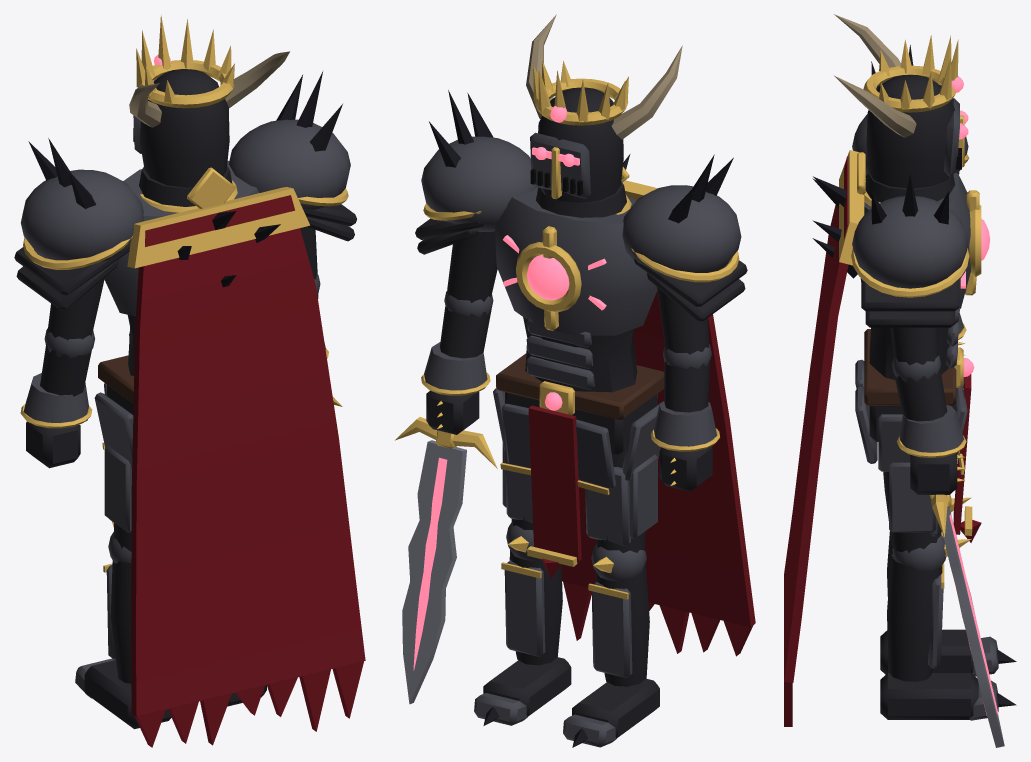
The model's file is HollowKing.fbx.
The picture shows the model from 3 angles, left to right: view 1: azimuth 30°, elevation 25°; view 2: azimuth 150°, elevation 25°; view 3: azimuth 270°, elevation 25°; orthographic projection. The views are drawn at different scales.
Visible parts, largest first — view 1: HollowKing_Cape, HollowKing_UpperArmL, HollowKing_Head, HollowKing_UpperArmR, HollowKing_LowerArmL, HollowKing_LowerLegL, HollowKing_Torso, HollowKing_Hips, HollowKing_UpperLegL; view 2: HollowKing_Torso, HollowKing_Cape, HollowKing_Hips, HollowKing_UpperArmL, HollowKing_UpperArmR, HollowKing_Head, HollowKing_LowerLegL, HollowKing_LowerLegR, HollowKing_Sword, HollowKing_LowerArmL, HollowKing_LowerArmR, HollowKing_UpperLegL (+4 smaller); view 3: HollowKing_UpperArmR, HollowKing_Head, HollowKing_LowerLegR, HollowKing_Cape, HollowKing_LowerArmR, HollowKing_Hips, HollowKing_Torso, HollowKing_UpperLegR, HollowKing_Sword, HollowKing_LowerLegL, HollowKing_UpperArmL, HollowKing_Sword_Glow_Crimson.
Boxes of the visible parts, <box> form: HollowKing_Cape: <box>127,167,365,747</box>; HollowKing_UpperArmL: <box>14,138,143,340</box>; HollowKing_Head: <box>129,15,289,187</box>; HollowKing_UpperArmR: <box>229,71,356,279</box>; HollowKing_LowerArmL: <box>20,328,94,468</box>; HollowKing_LowerLegL: <box>75,521,171,729</box>; HollowKing_Torso: <box>104,161,280,375</box>; HollowKing_Hips: <box>94,355,134,469</box>; HollowKing_UpperLegL: <box>104,445,131,551</box>; HollowKing_Torso: <box>494,154,657,392</box>; HollowKing_Cape: <box>561,167,755,656</box>; HollowKing_Hips: <box>493,353,664,579</box>; HollowKing_UpperArmL: <box>622,154,747,354</box>; HollowKing_UpperArmR: <box>415,90,537,302</box>; HollowKing_Head: <box>526,14,682,202</box>; HollowKing_LowerLegL: <box>563,544,659,747</box>; HollowKing_LowerLegR: <box>474,522,571,725</box>; HollowKing_Sword: <box>395,417,497,704</box>; HollowKing_LowerArmL: <box>650,344,719,491</box>; HollowKing_LowerArmR: <box>421,290,493,434</box>; HollowKing_UpperLegL: <box>585,449,657,553</box>; HollowKing_UpperArmR: <box>851,174,969,365</box>; HollowKing_Head: <box>834,14,964,188</box>; HollowKing_LowerLegR: <box>880,535,1016,720</box>; HollowKing_Cape: <box>784,150,865,726</box>; HollowKing_LowerArmR: <box>892,355,966,494</box>; HollowKing_Hips: <box>855,329,981,542</box>; HollowKing_Torso: <box>812,171,981,379</box>; HollowKing_UpperLegR: <box>883,462,941,552</box>; HollowKing_Sword: <box>929,494,1004,747</box>; HollowKing_LowerLegL: <box>880,497,1016,676</box>; HollowKing_UpperArmL: <box>852,45,968,180</box>; HollowKing_Sword_Glow_Crimson: <box>949,514,998,715</box>.
Size of the model in its own units: 1743 by 3374 by 1092.
2 materials, 1 textured.
